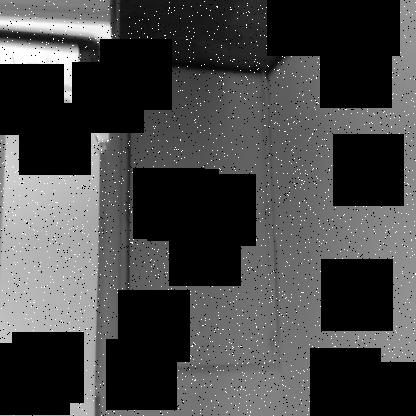Porte: (117, 56, 284, 378)
